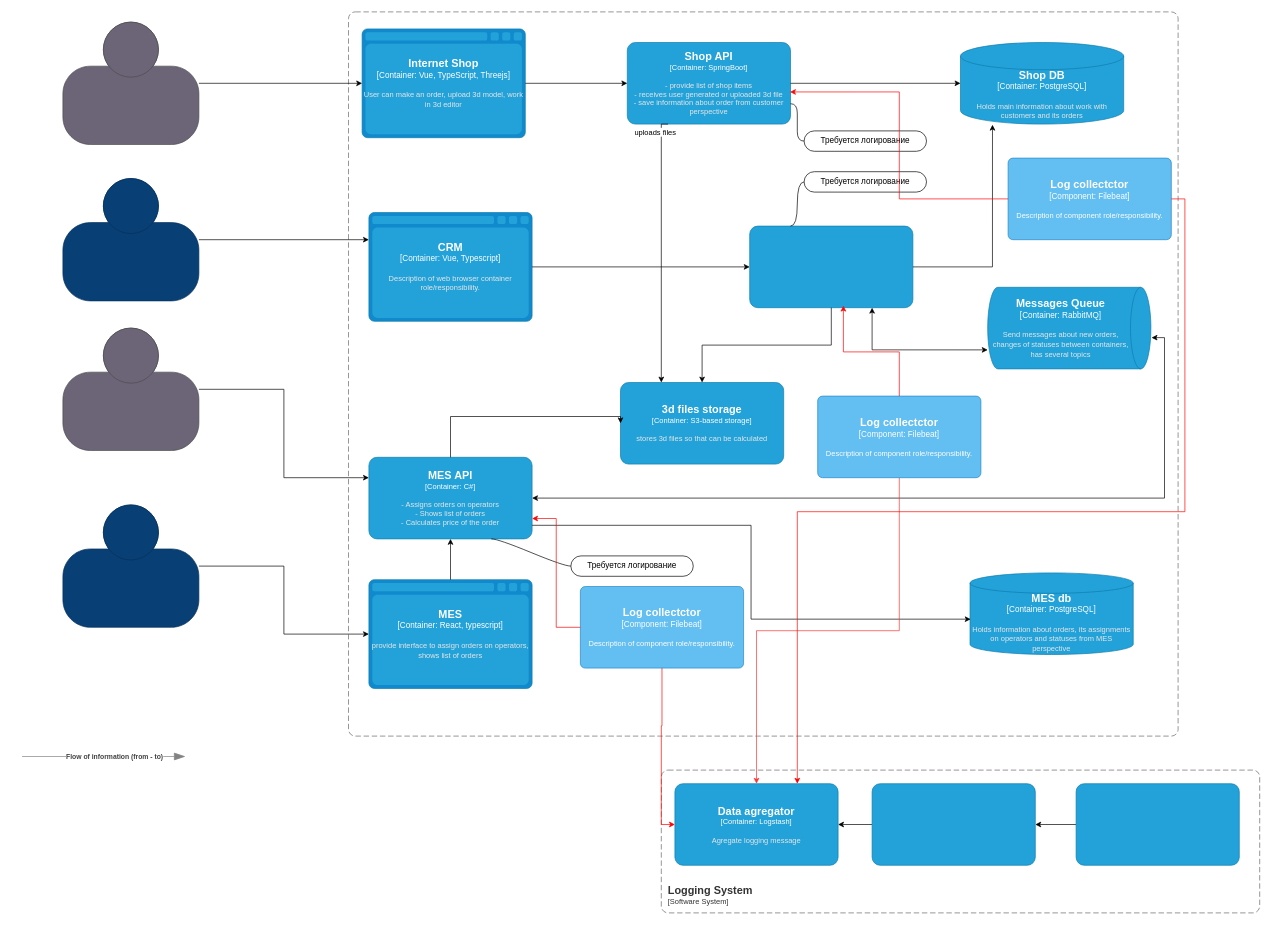
Some shapes in this 1272 by 925 pixel diagram are drawn without their labels. The shapes that lost their labels are listed below. From the top down, each one's box as (x1, y1, x2, y2) in pixels, then its label:
(62, 21, 199, 144): Customer [Person] Description of external person.
(62, 178, 199, 301): Seller [Person] Operates with order, confirms manufacturing for the user
(749, 225, 913, 308): CRM API [Container: SpringBoot] Description of container role/responsibility.
(62, 327, 199, 451): API user [Person] Description of external person.
(348, 11, 1178, 736): Jewerly Store System [Software System]
(62, 504, 199, 627): Operator [Person] Takes order in work, manufactures jewerly
(871, 783, 1035, 865): Log db [Container: ElasticSearch] Database used for find log
(1075, 783, 1239, 865): Log UI [Container: Kibana] Log interface
